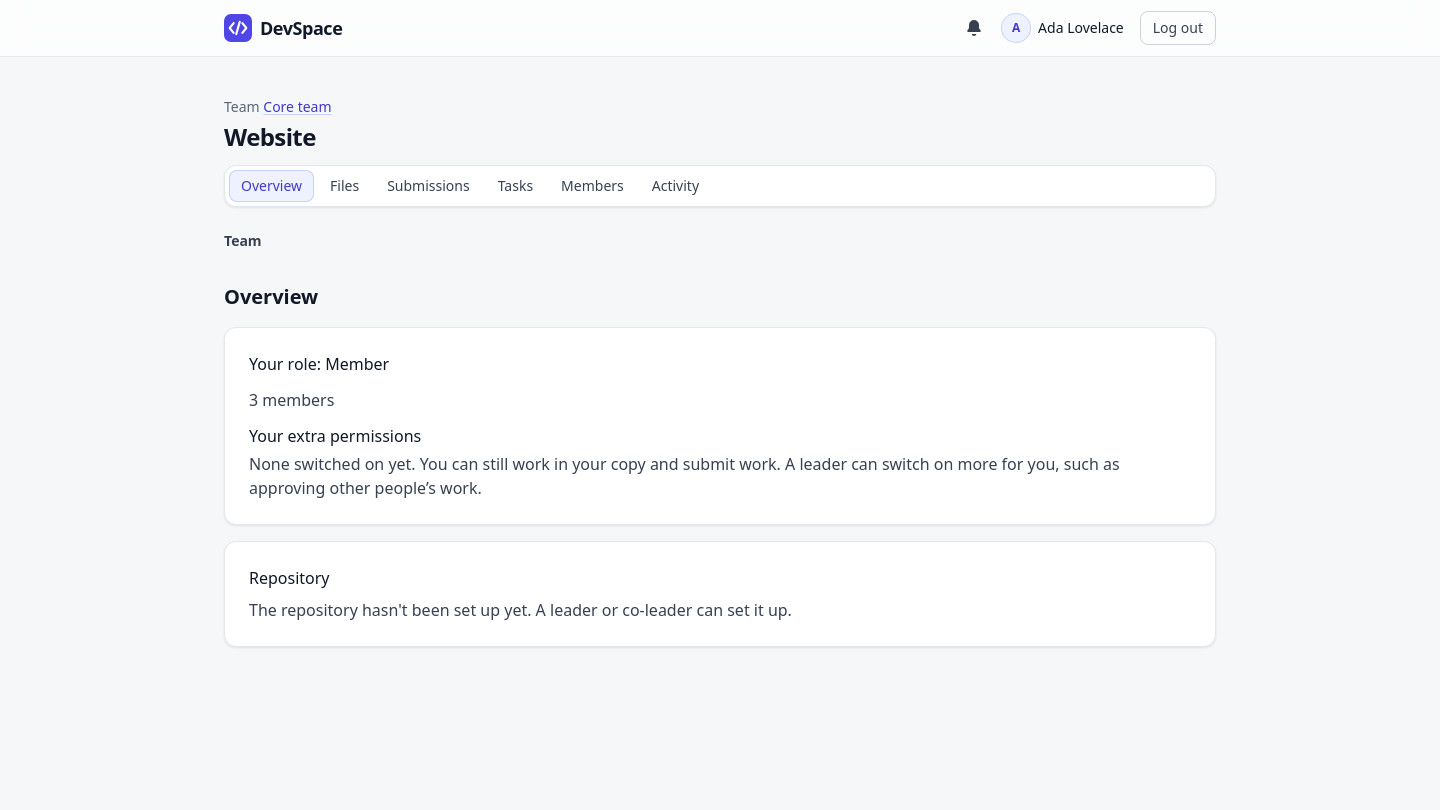
Scenario: Share my open file › turns sharing off from the user menu
Click the button with test id "current-user" at (1065, 28), box [998,10,1132,46]
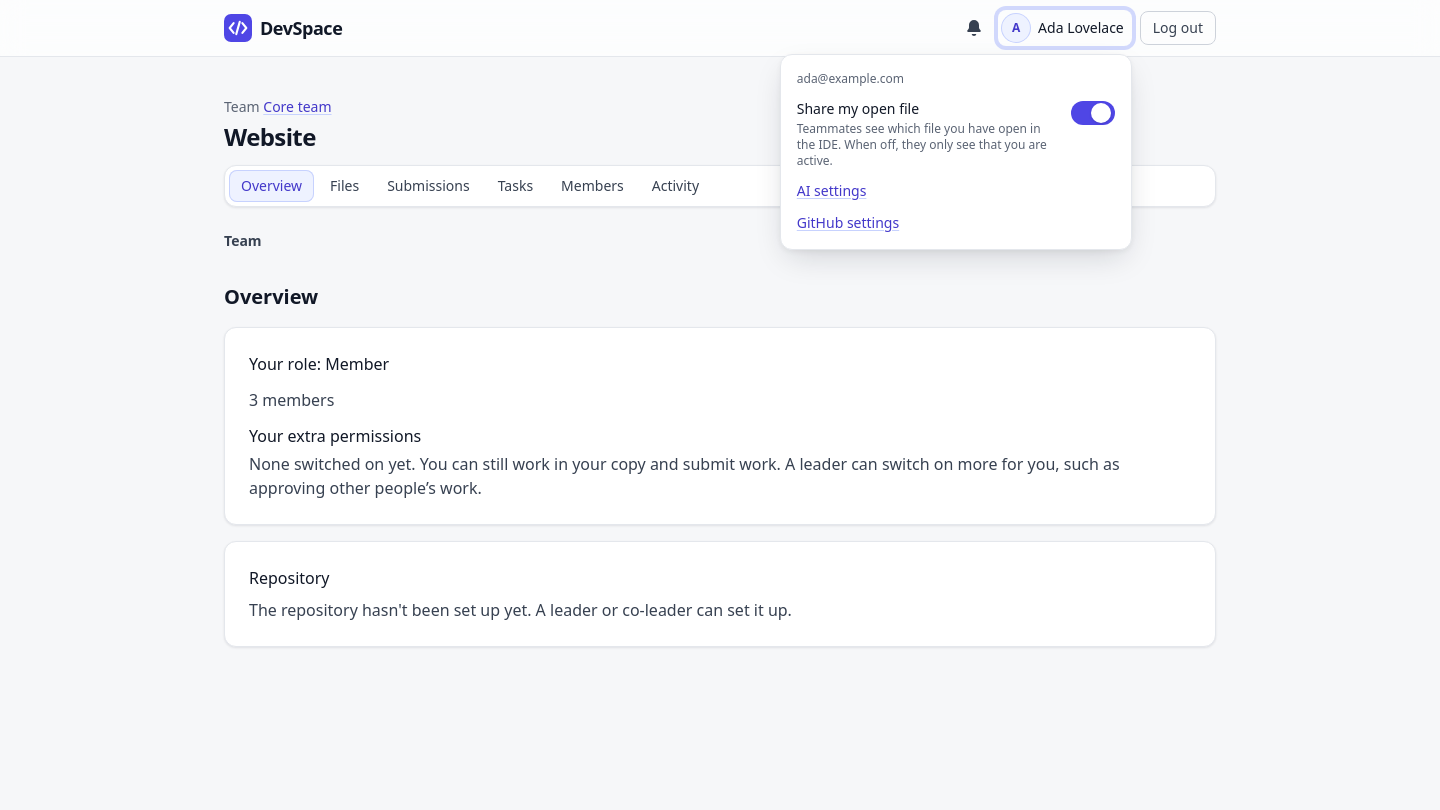
Click the switch named "Share my open file" at (1093, 113), box [1071,101,1115,125]
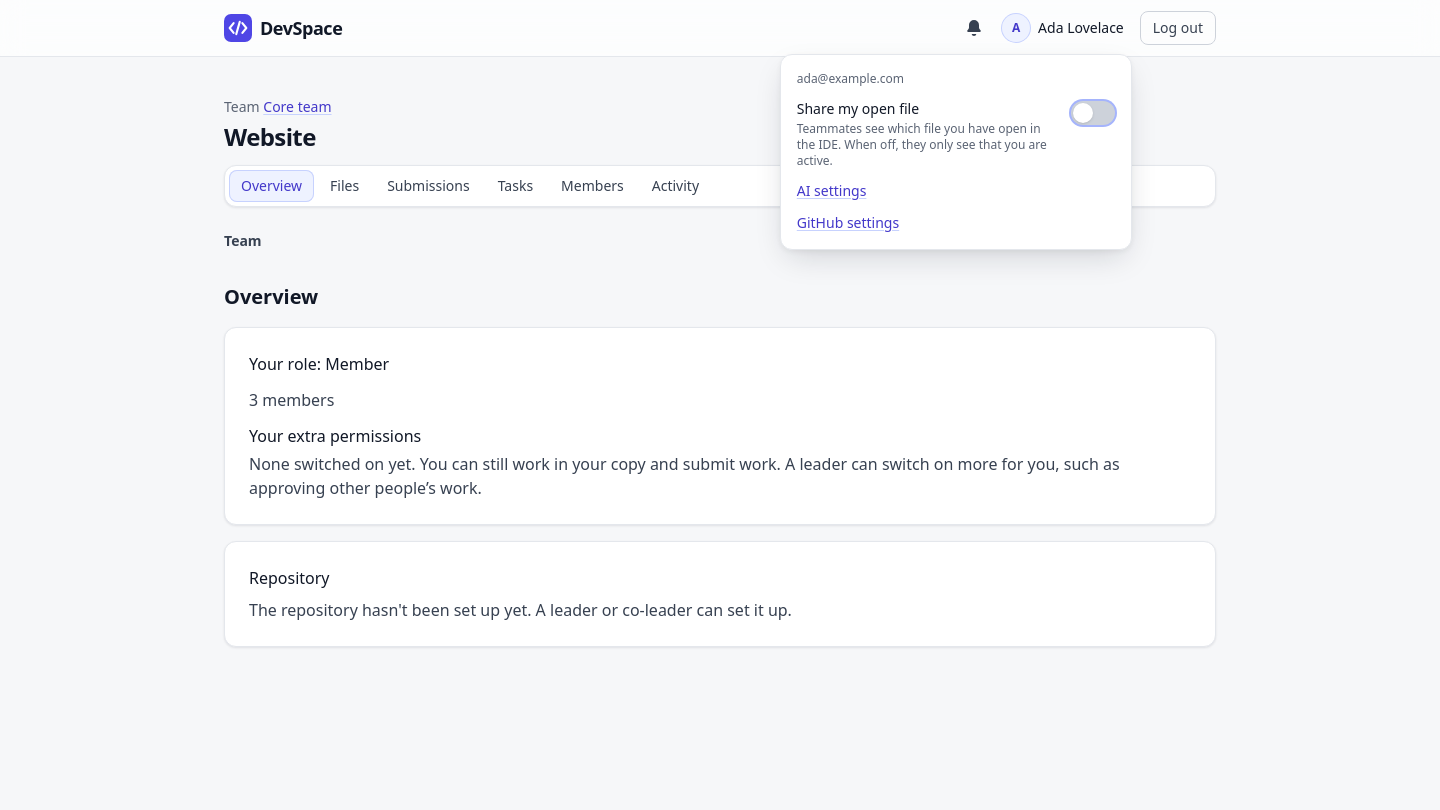
Expected: the switch named "Share my open file" is not checked, [1071,101,1115,125]
Press Escape
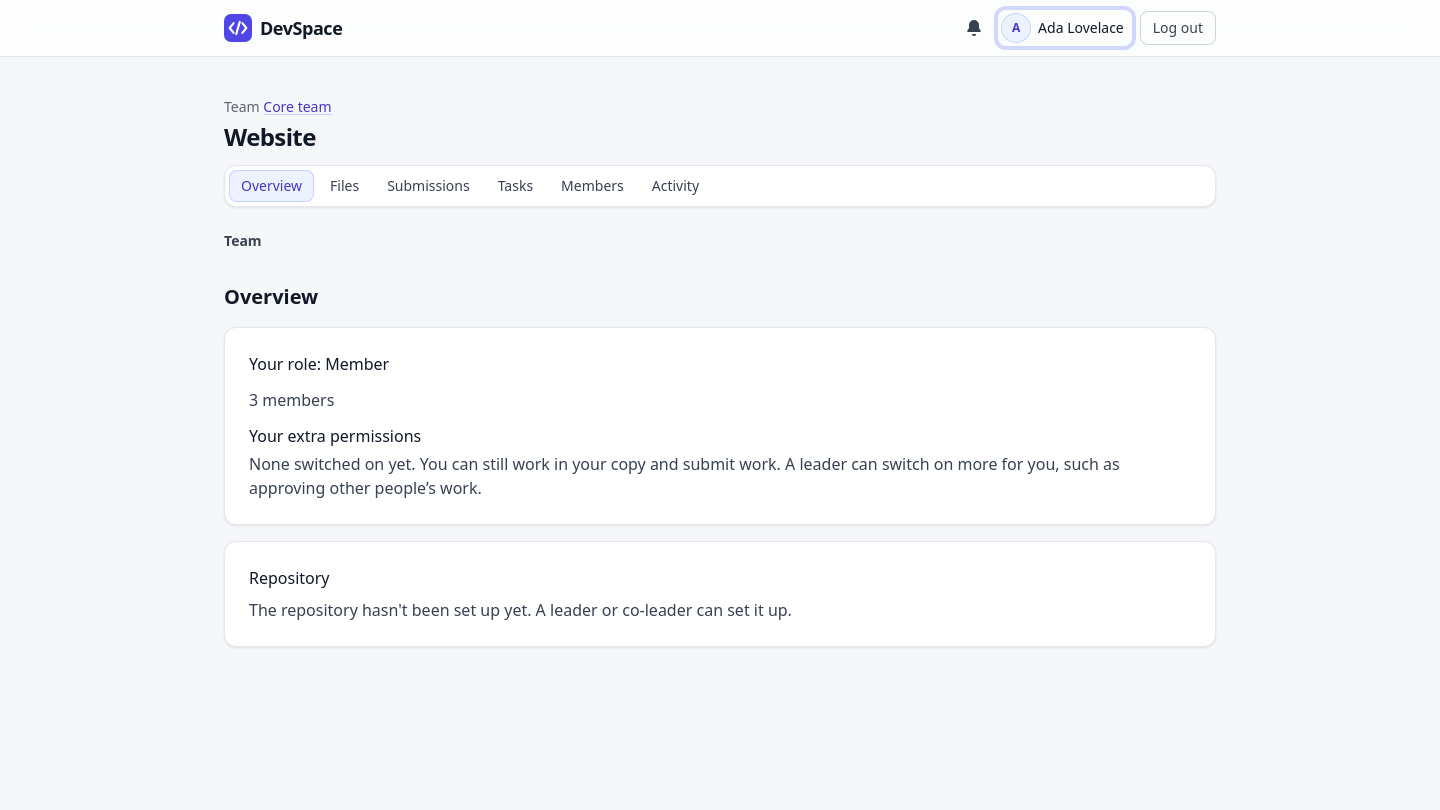
Expected: the switch is gone
